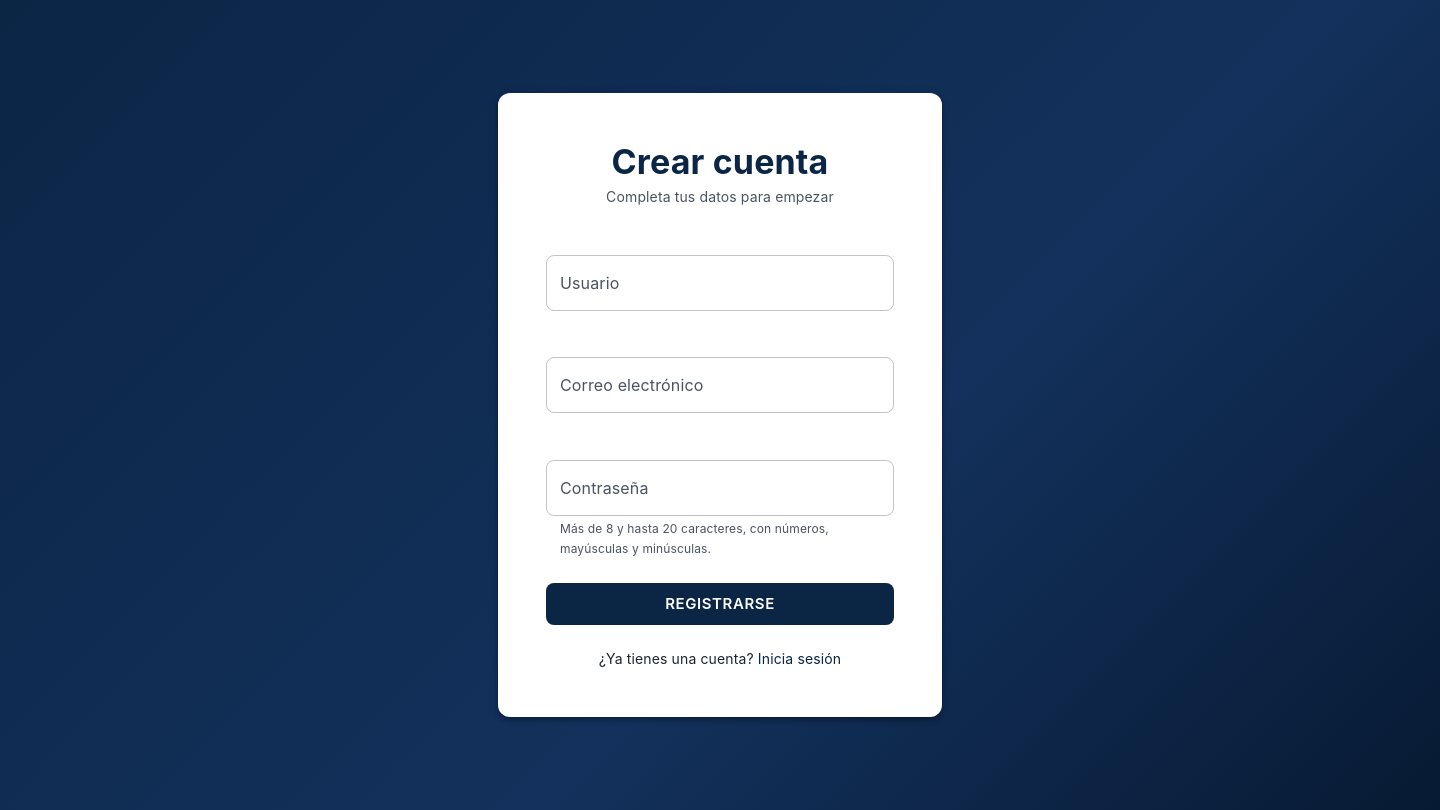
Scenario: RegisterPage › shows required-field errors when submitting an empty form
Click the button with test id "register-submit" at {"x": 720, "y": 604}, box 546,583 -> 894,626
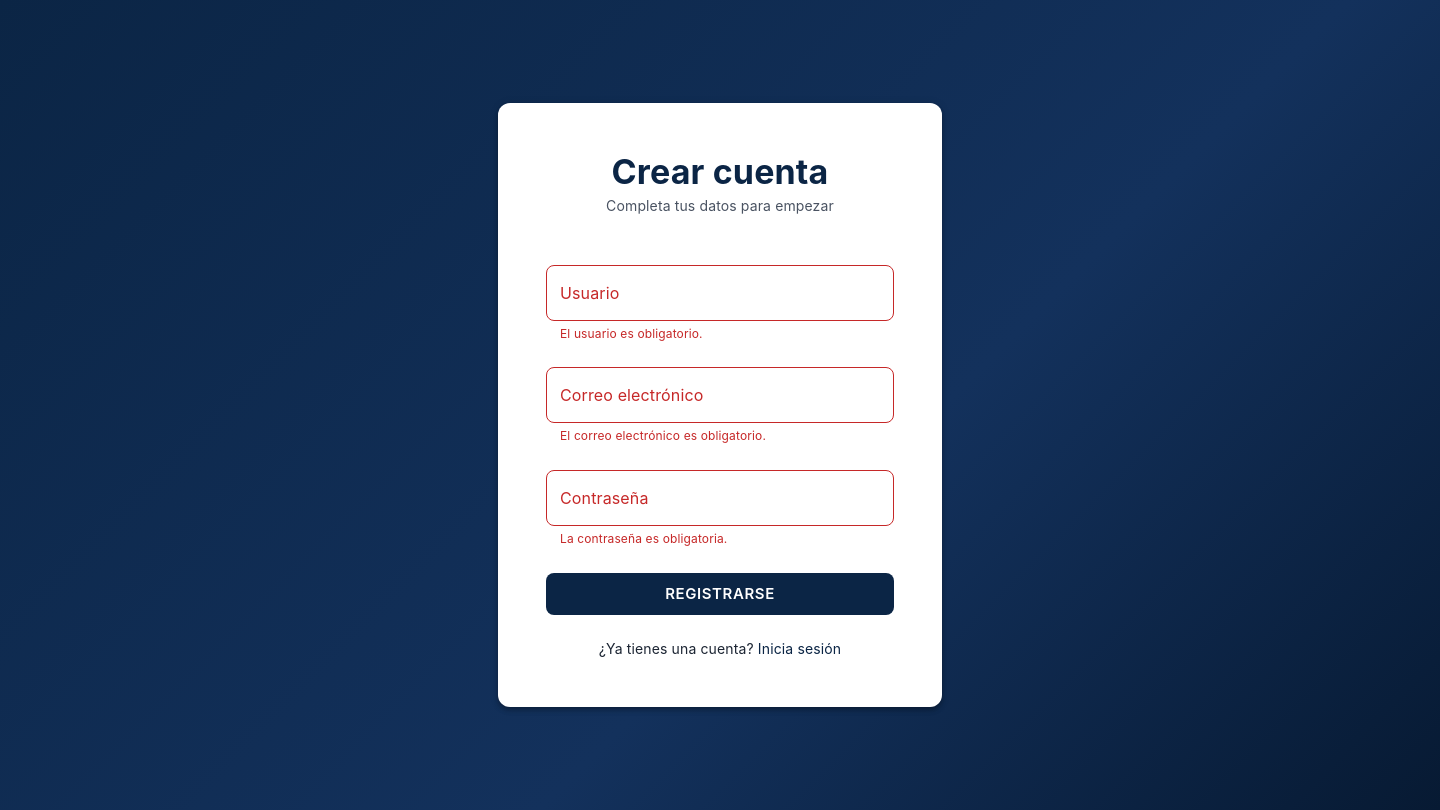
Now the text "El usuario es obligatorio." is shown, box 560,326 -> 703,340
Now the text "El correo electrónico es obligatorio." is shown, box 560,428 -> 766,443
Now the text "La contraseña es obligatoria." is shown, box 560,531 -> 728,546
